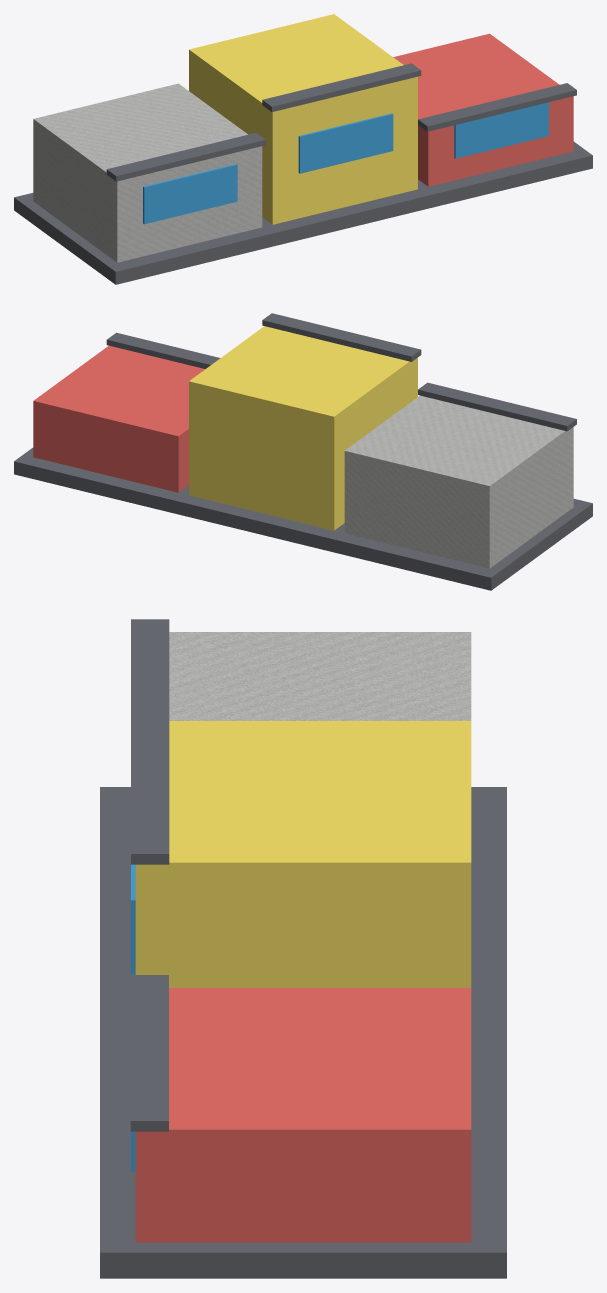
Rendered from go-kart-track-and-pit-lane-podium-three-steps-1f2f9235__34366.glb.
3 views of the same model, one above another, from view 1: azimuth 30°, elevation 25°; view 2: azimuth 150°, elevation 25°; view 3: azimuth 270°, elevation 25° (orthographic). The views are drawn at different scales.
Visible parts, largest first — view 1: podium-three-steps-canary, podium-three-steps-concrete, podium-three-steps-charcoal, podium-three-steps-red, podium-three-steps-azure; view 2: podium-three-steps-canary, podium-three-steps-concrete, podium-three-steps-charcoal, podium-three-steps-red; view 3: podium-three-steps-canary, podium-three-steps-red, podium-three-steps-charcoal, podium-three-steps-concrete.
Boxes of the visible parts, x1,y1,x2,y2 form: podium-three-steps-canary: (189,14,417,224); podium-three-steps-concrete: (33,83,262,262); podium-three-steps-charcoal: (14,63,592,284); podium-three-steps-red: (393,33,573,186); podium-three-steps-azure: (143,102,548,224); podium-three-steps-canary: (189,326,417,530); podium-three-steps-concrete: (344,395,573,568); podium-three-steps-charcoal: (14,313,592,590); podium-three-steps-red: (33,345,204,492); podium-three-steps-canary: (135,721,471,987); podium-three-steps-red: (135,988,471,1242); podium-three-steps-charcoal: (100,619,506,1278); podium-three-steps-concrete: (169,632,471,720).
Bounding box in the file's own units: 4.6 × 1.22 × 1.7.
Materials: 5 (1 with a texture image).
